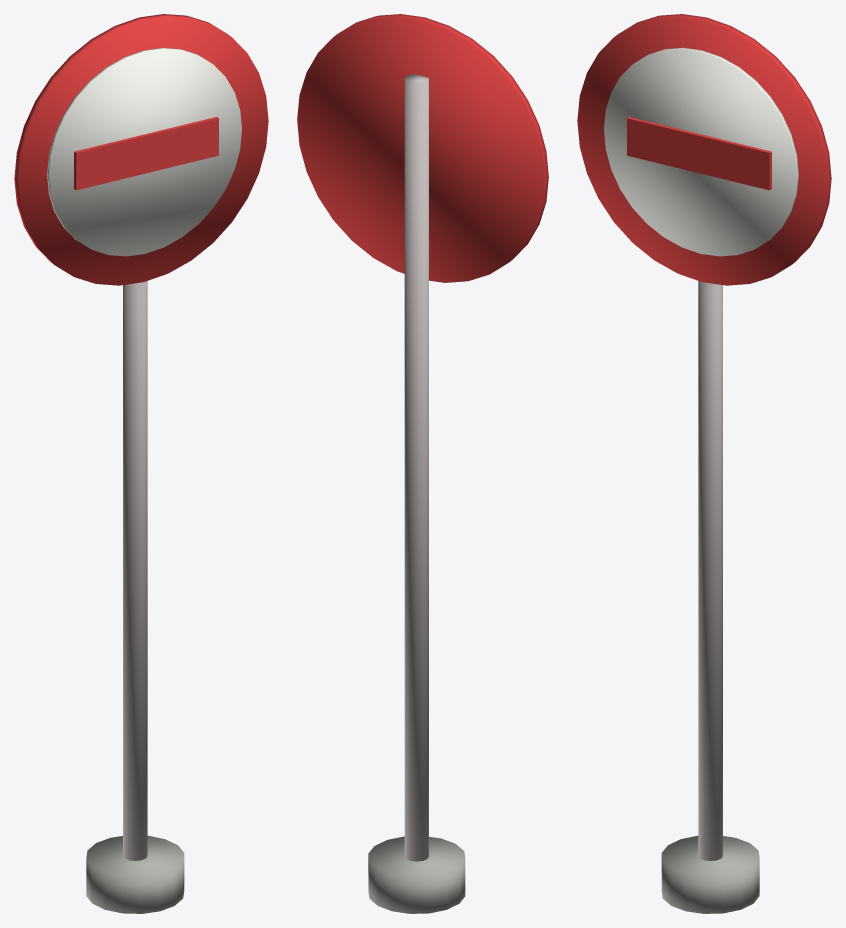
3 views of the same model, side by side, from view 1: azimuth 30°, elevation 25°; view 2: azimuth 150°, elevation 25°; view 3: azimuth 330°, elevation 25° (orthographic).
Parts seen in each view (by area): view 1: sign_in, sign, pole, base, bar; view 2: sign, pole, base; view 3: sign_in, sign, pole, base, bar.
Part boxes in pixels (bbox=[...]): sign_in: bbox=[47, 47, 241, 256]; sign: bbox=[14, 14, 268, 285]; pole: bbox=[123, 281, 147, 860]; base: bbox=[86, 835, 184, 913]; bar: bbox=[74, 117, 218, 190]; sign: bbox=[297, 14, 548, 282]; pole: bbox=[404, 74, 428, 861]; base: bbox=[368, 836, 465, 913]; sign_in: bbox=[604, 47, 798, 256]; sign: bbox=[577, 14, 831, 285]; pole: bbox=[698, 281, 722, 860]; base: bbox=[661, 835, 759, 913]; bar: bbox=[627, 117, 771, 190].
Size of the model in its own units: 0.7 by 2.35 by 0.24.
